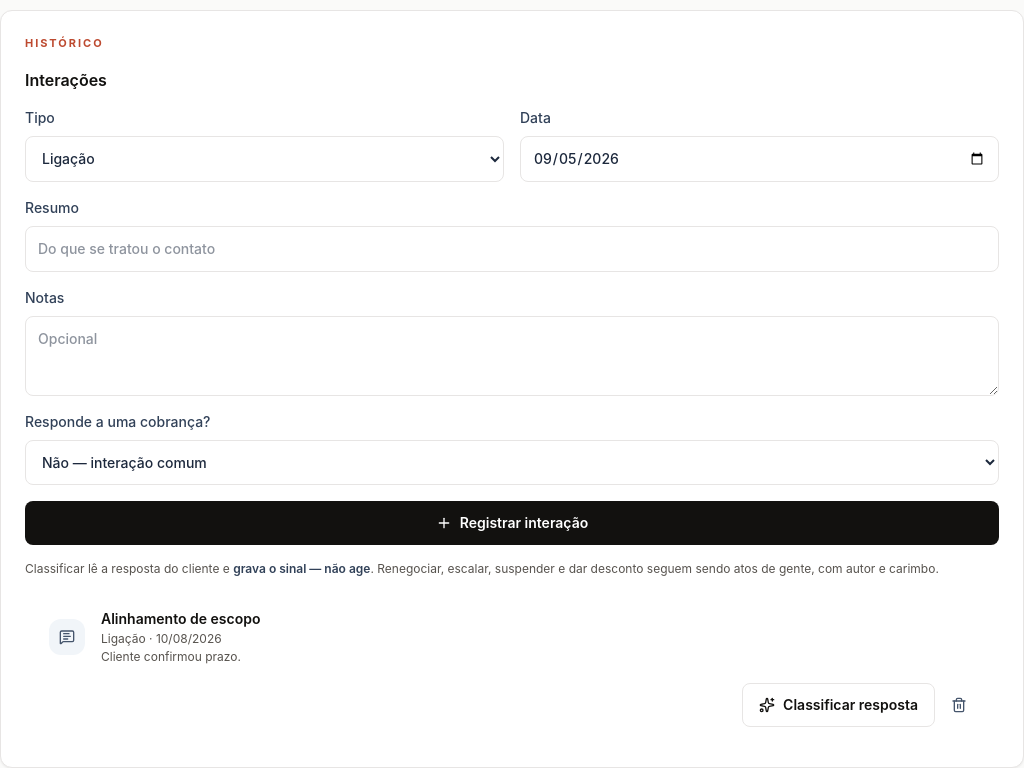
o 502 diz que nada foi gravado — é diferente de um palpite gravado em silêncio
(page scrolled)
Click the button with aria-label "Classificar resposta: Alinhamento de escopo" at {"x": 839, "y": 704}, box [742,682,935,726]
(page scrolled)
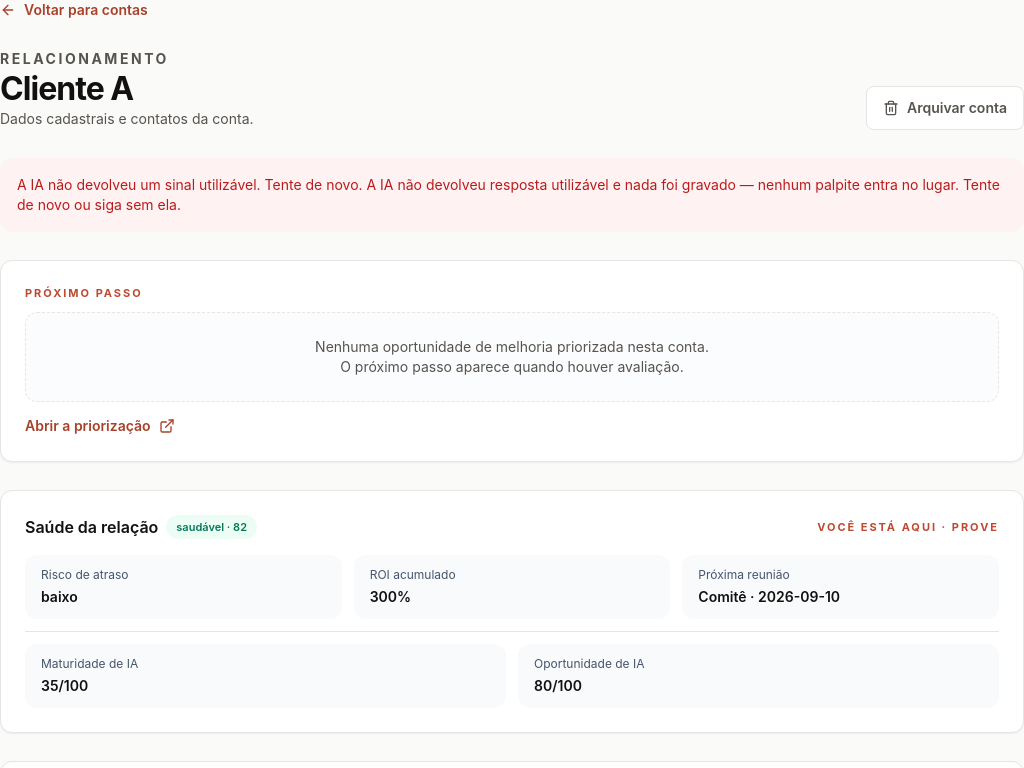
expect the message shows "nada foi gravado — nenhum palpite entra no lugar": met, box [17,176,1000,213]
